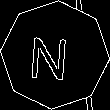N_N: (33, 28, 77, 82)
